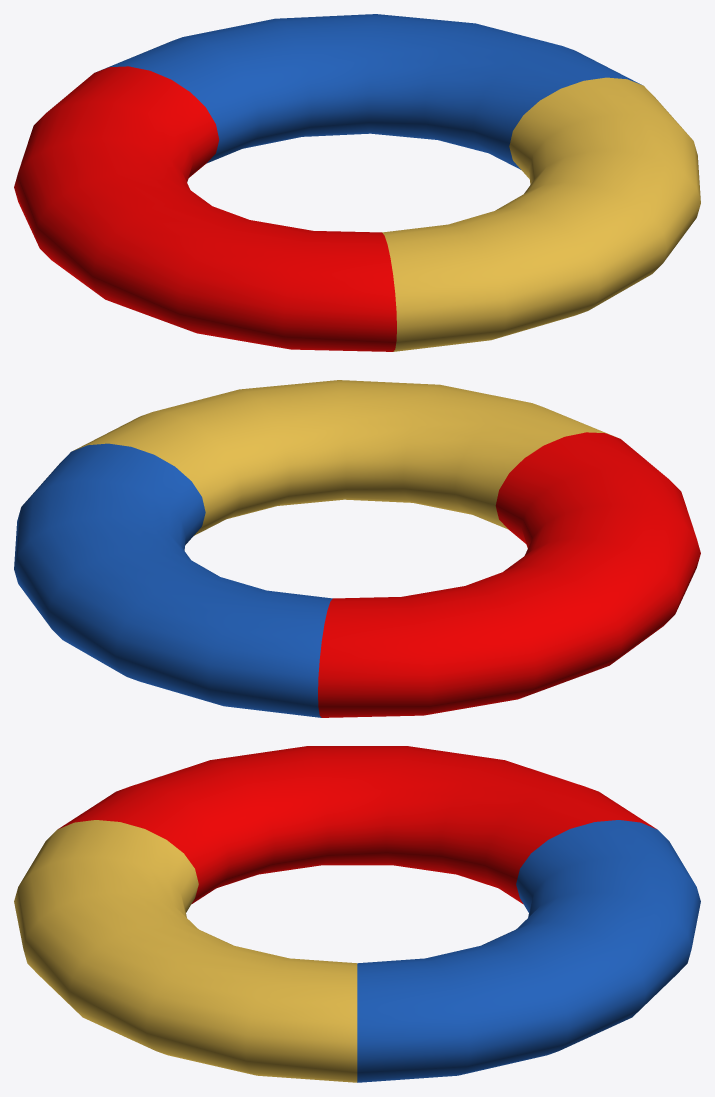
Rendered from InnerTube.fbx.
3 views of the same model, one above another, from view 1: azimuth 30°, elevation 25°; view 2: azimuth 150°, elevation 25°; view 3: azimuth 270°, elevation 25° (orthographic).
Parts seen in each view (by area): view 1: InnerTube; view 2: InnerTube; view 3: InnerTube.
Boxes of the visible parts, x1,y1,x2,y2 form: InnerTube: (14, 14, 700, 351); InnerTube: (14, 380, 700, 717); InnerTube: (14, 746, 700, 1082).
Bounding box in the file's own units: 4.67 × 0.7163 × 4.68.
